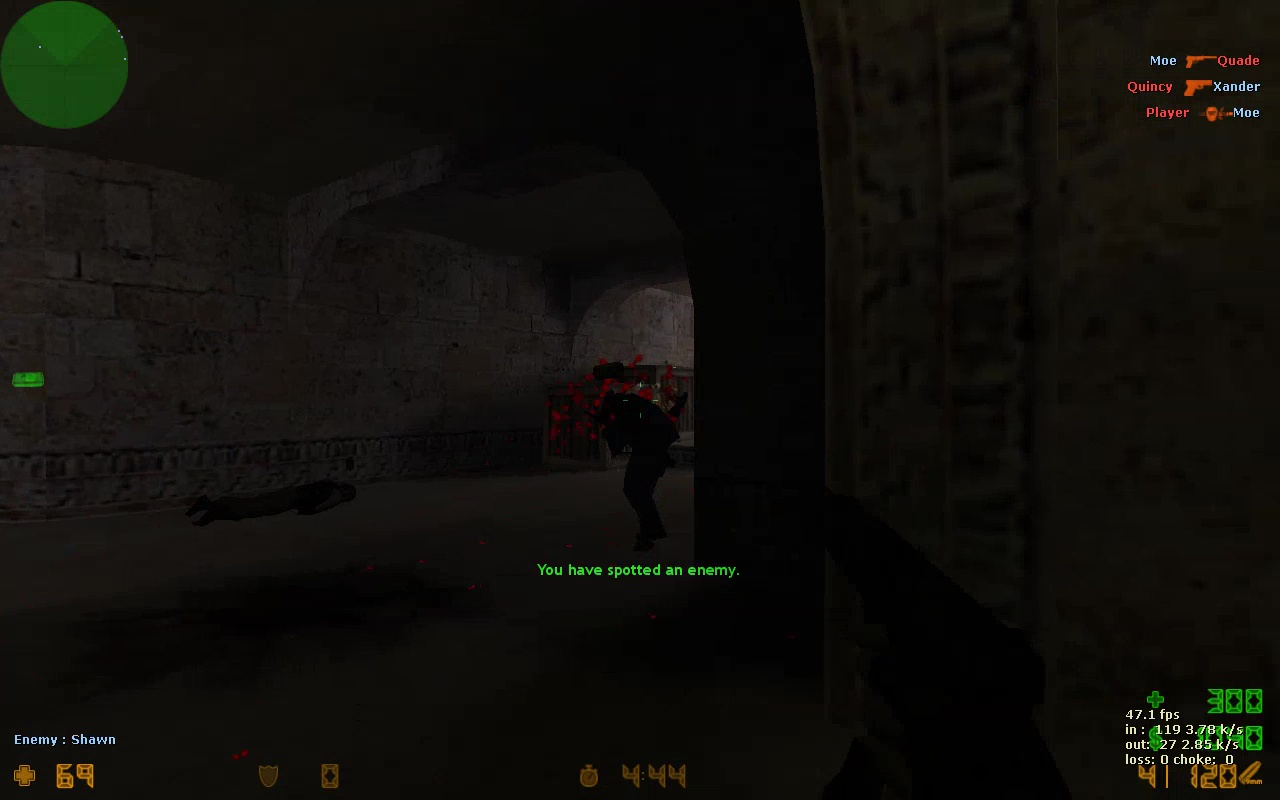ct: (586, 380, 687, 558)
dead: (181, 478, 356, 530)
